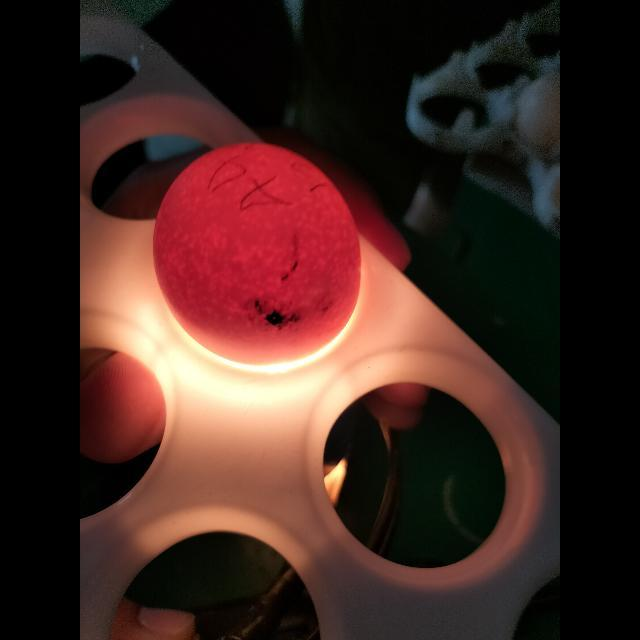Infertile: (157, 146, 365, 360)
